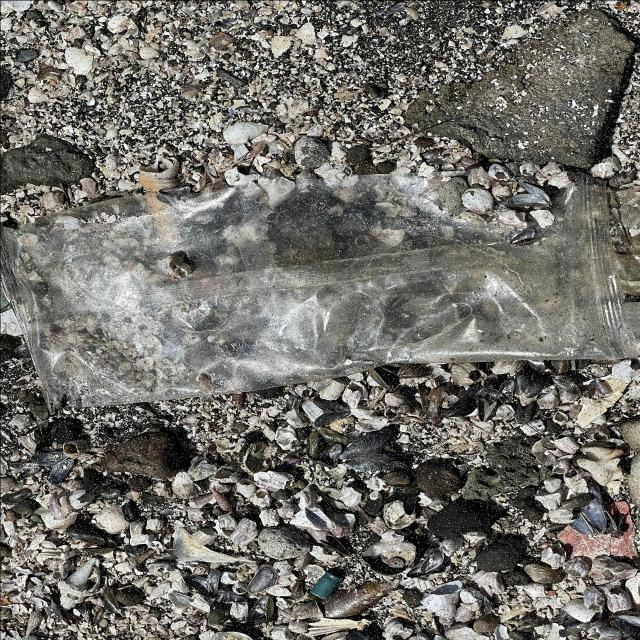plastic_waste: (1, 169, 640, 419)
